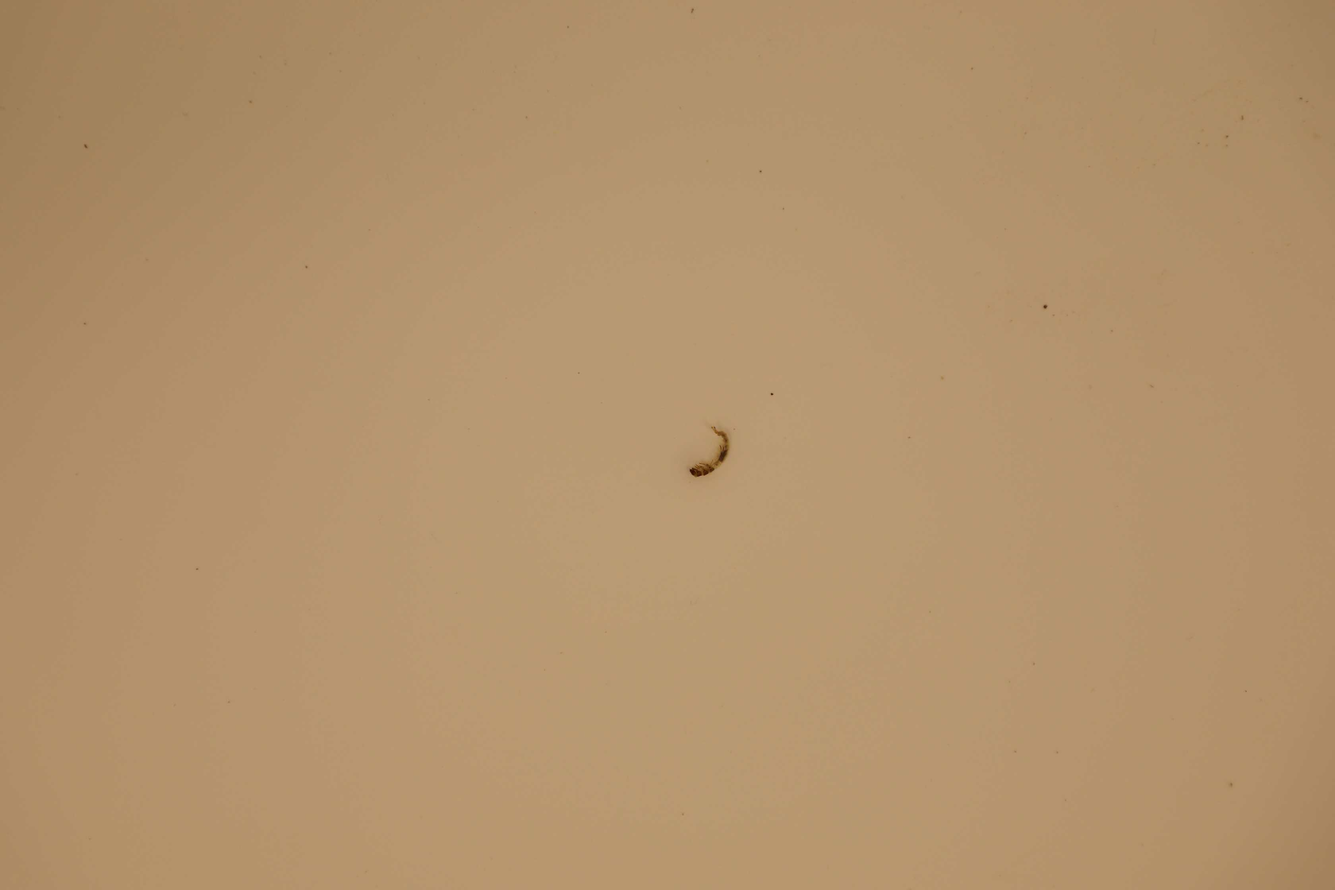Cadisfly: (677, 424, 733, 479)
